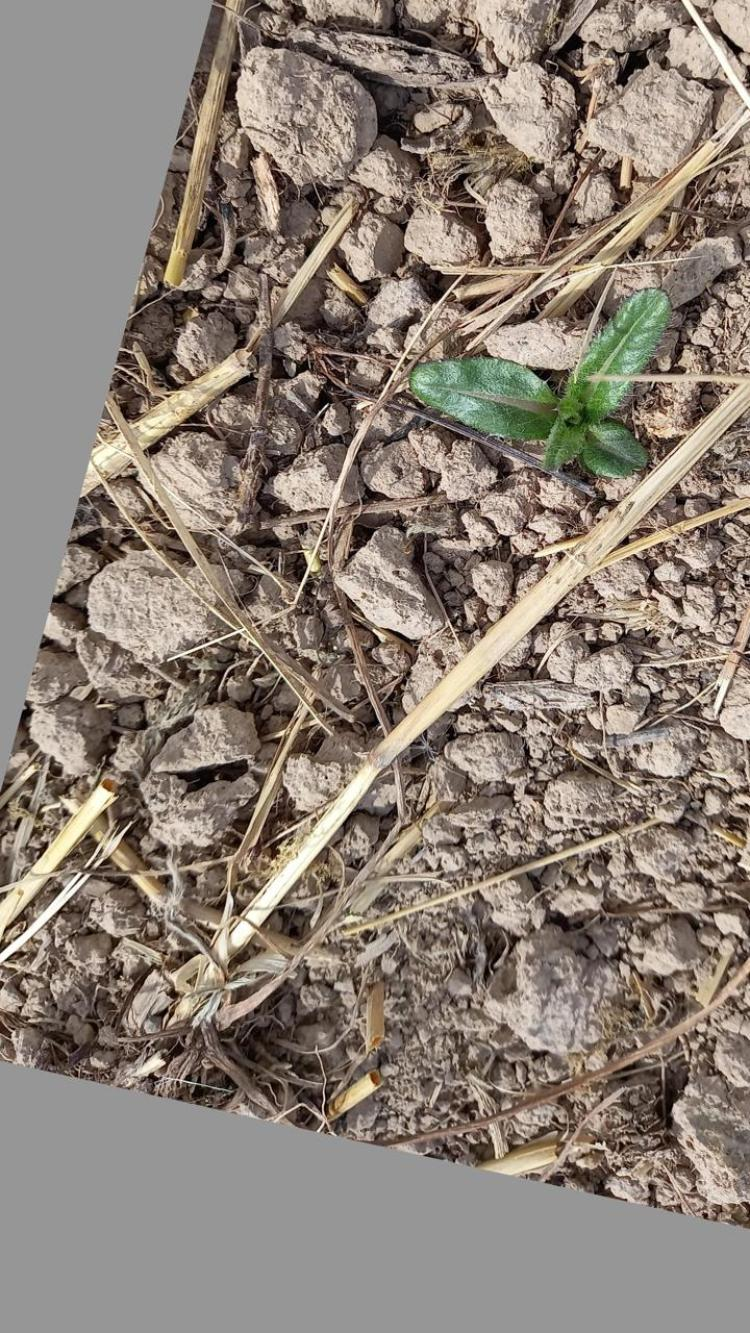bodyak: (406, 290, 675, 479)
